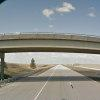Bridge: (7, 20, 96, 61)
